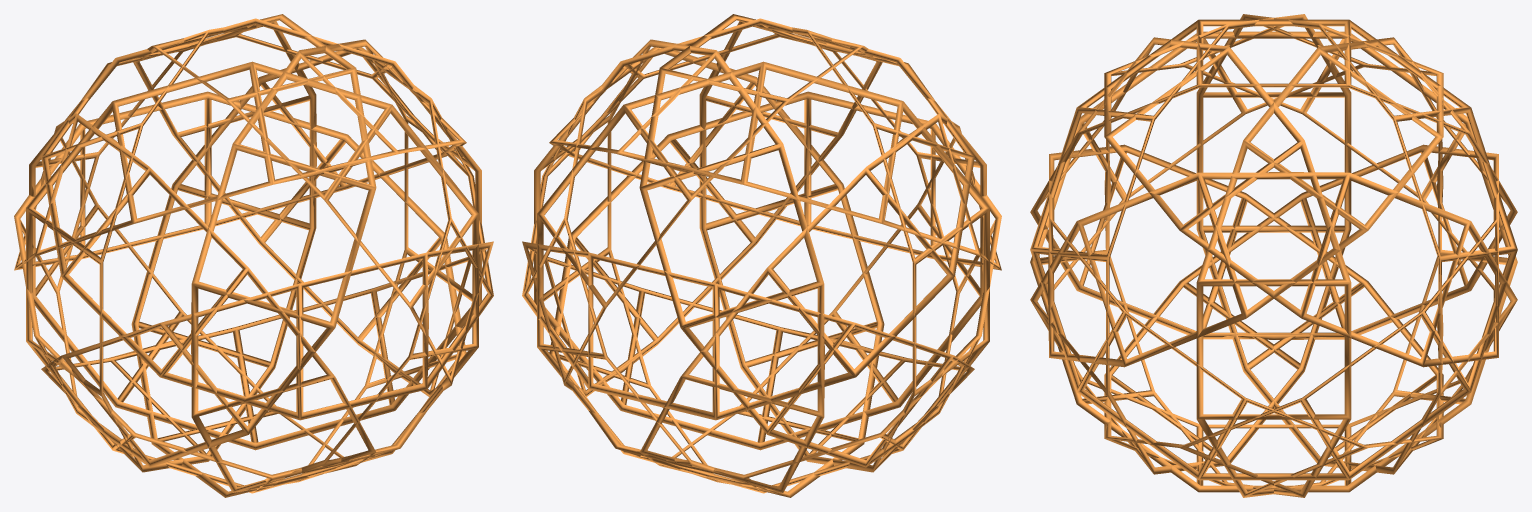
File: TruncatedDodecadodecahedron2.glb
The picture shows the model from 3 angles, left to right: view 1: azimuth 30°, elevation 25°; view 2: azimuth 150°, elevation 25°; view 3: azimuth 270°, elevation 25°; orthographic projection. The views are drawn at different scales.
Parts seen in each view (by area): view 1: TruncatedDodecadodecahedron; view 2: TruncatedDodecadodecahedron; view 3: TruncatedDodecadodecahedron.
Part boxes in pixels (left/top/right/bottom): TruncatedDodecadodecahedron: left=14, top=14, right=493, bottom=497; TruncatedDodecadodecahedron: left=522, top=14, right=1001, bottom=497; TruncatedDodecadodecahedron: left=1030, top=14, right=1517, bottom=497.
Size of the model in its own units: 3.28 by 3.28 by 3.28.
